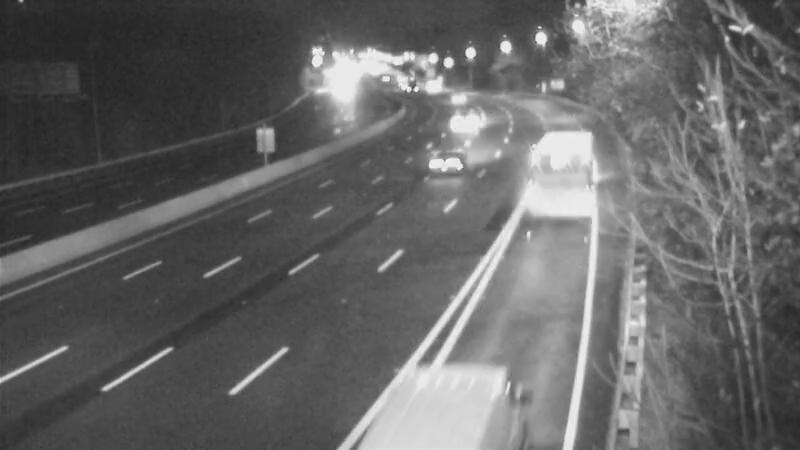vehicle: (370, 358, 480, 450), (407, 124, 487, 204), (513, 125, 593, 205), (433, 77, 483, 127), (435, 92, 485, 142)
